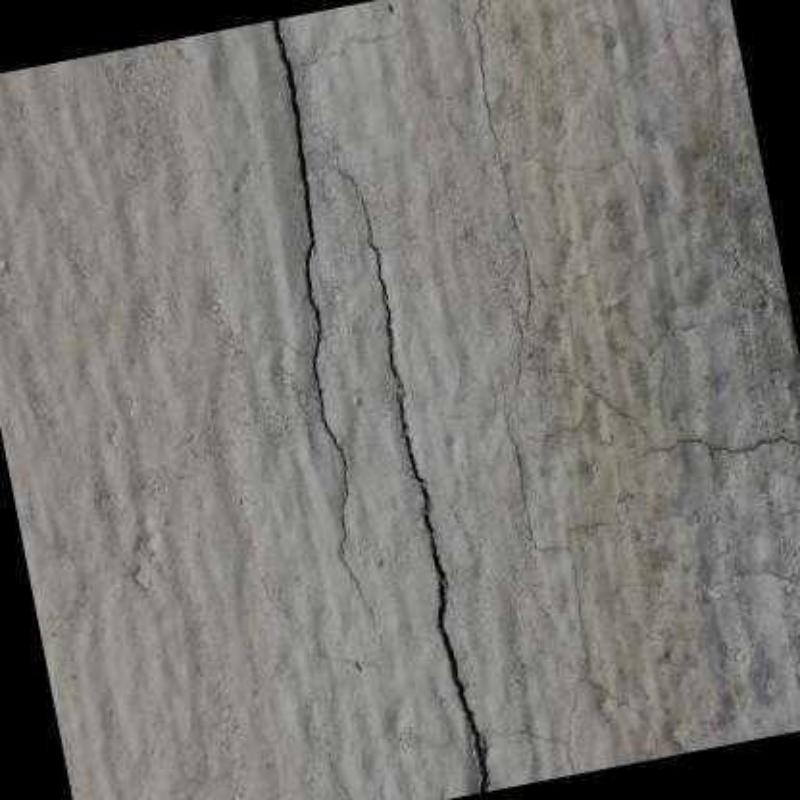crack: (337, 161, 492, 796), (271, 16, 364, 602), (469, 0, 535, 388), (502, 412, 592, 681), (644, 431, 798, 456)
